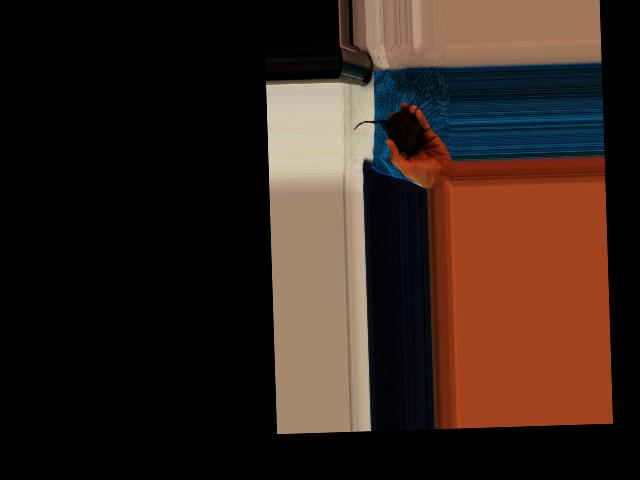beet: (353, 109, 425, 153)
